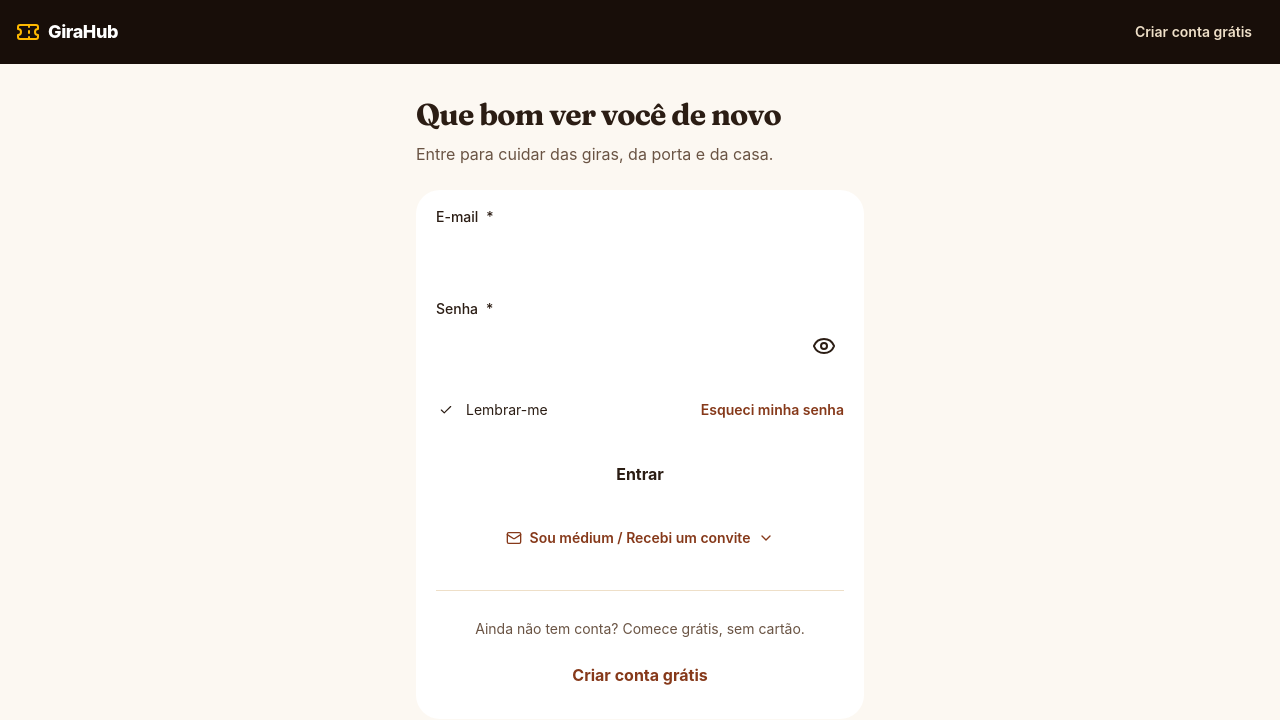
Test case: AM-24 com a chave ligada › o login troca o link por "Sou médium / Recebi um convite" com os passos
The width and height of the screenshot is (1280, 720).
Step 1. Click the button "Sou médium / Recebi um convite" → [640, 538], box [506,514,774,562]
(page scrolled)
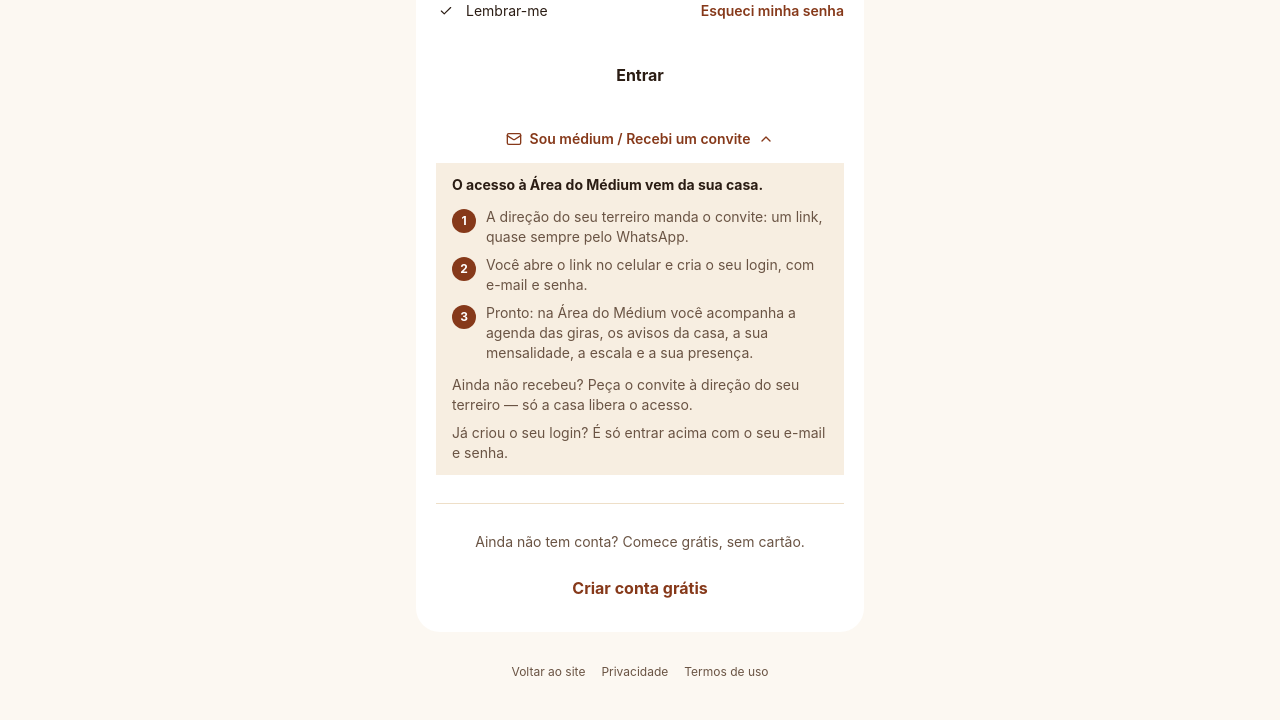
Result: the button "Sou médium / Recebi um convite" is expanded at [506,114,774,162]
Result: the text "O acesso à Área do Médium vem da sua casa." is shown at [452,176,763,192]
Result: the text "entrar acima com o seu e-mail e senha" is shown at [452,424,825,460]
